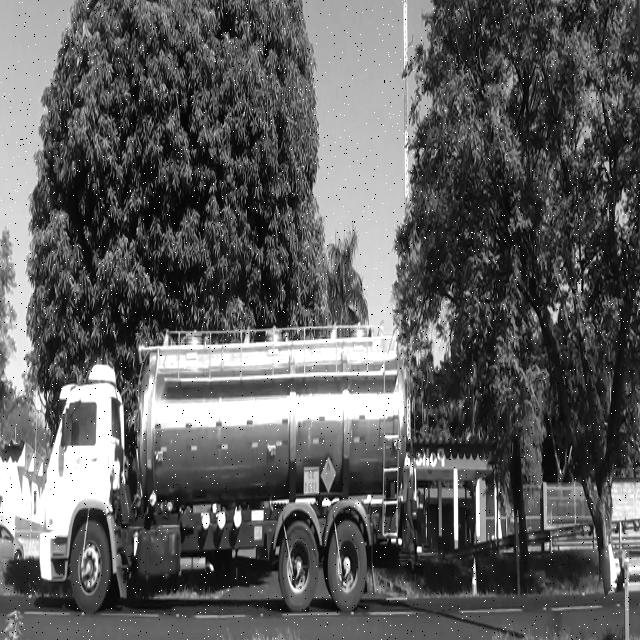-axle: (70, 521, 110, 611), (326, 519, 366, 607), (280, 524, 317, 608)
